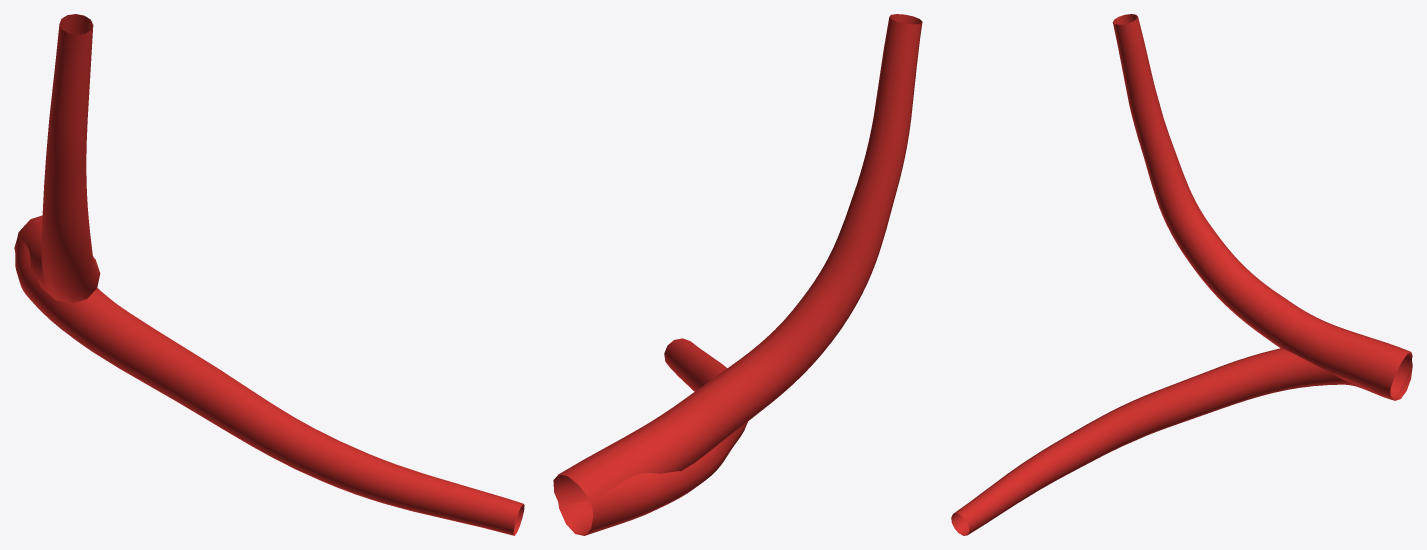
File: circulatorio-anterior-vein-of-right-lung.glb
3 views of the same model, side by side, from view 1: azimuth 30°, elevation 25°; view 2: azimuth 150°, elevation 25°; view 3: azimuth 270°, elevation 25° (orthographic). The views are drawn at different scales.
Visible parts, largest first — view 1: Anterior vein of right lung; view 2: Anterior vein of right lung; view 3: Anterior vein of right lung.
Part boxes in pixels (bbox=[...]): Anterior vein of right lung: bbox=[14, 14, 524, 535]; Anterior vein of right lung: bbox=[553, 14, 922, 535]; Anterior vein of right lung: bbox=[951, 14, 1412, 535].
Size of the model in its own units: 0.0245 by 0.0336 by 0.0356.
